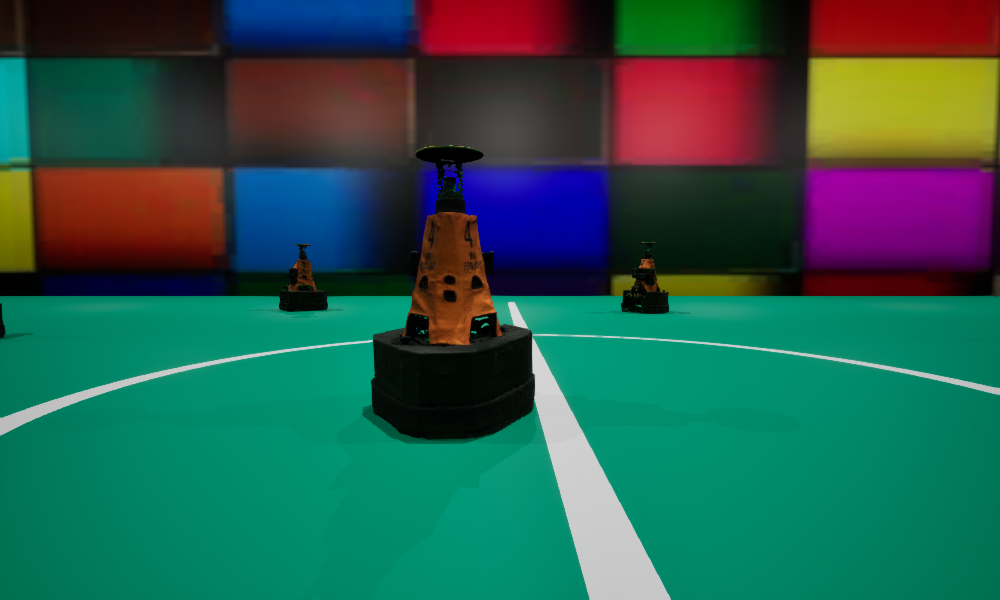o: (371, 145, 534, 439), (621, 242, 668, 312), (278, 244, 327, 310), (0, 303, 5, 336)
